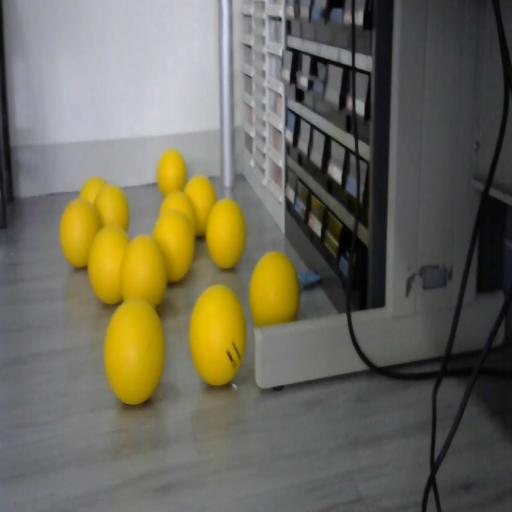FUEL: (102, 297, 164, 403), (188, 282, 248, 386), (249, 250, 299, 328), (120, 235, 168, 308), (205, 198, 247, 270), (59, 198, 101, 268), (158, 191, 196, 233), (156, 148, 188, 194), (80, 176, 108, 207)
